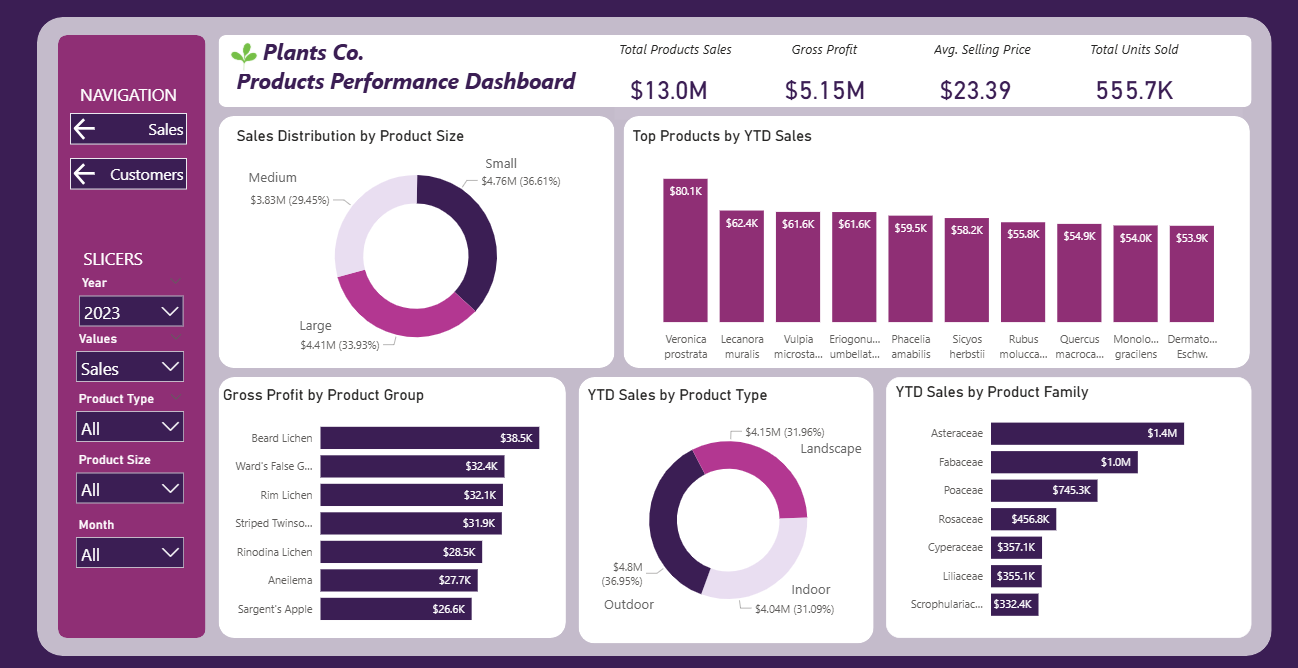

Layout of this report page (visuals, bound fields, positions):
{"tool":"powerbi","page":{"name":"Products Performance","canvas":[1454,750],"ordinal":2},"visuals":[{"type":"shape","box":[46,20,1372,710],"z":0},{"type":"shape","box":[70,40,164,670],"z":1000},{"type":"shape","box":[248,40,1148,80],"z":2000},{"type":"textbox","box":[264,36,398,82],"z":3000},{"type":"image","box":[218,40,116,48],"z":4000},{"type":"shape","box":[248,130,440,280],"z":5000},{"type":"shape","box":[248,420,386,290],"z":6000},{"type":"shape","box":[698,130,696,280],"z":7000},{"type":"shape","box":[648,420,328,296],"z":8000},{"type":"cardVisual","fields":{"Data":["_Measures.Sales","_Measures.Gross_Profit","_Measures.Avg Selling Price","_Measures.Quantity"]},"box":[688,60,698,74],"z":9000},{"type":"slicer","fields":{"Values":["Slc_Values.Values"]},"box":[80,364,140,90],"z":10000},{"type":"slicer","fields":{"Values":["Dim_Date.Year"]},"box":[84,302,136,90],"z":11000},{"type":"textbox","box":[688,40,172,48],"z":12000},{"type":"textbox","box":[880,40,104,48],"z":13000},{"type":"textbox","box":[1038,40,146,48],"z":14000},{"type":"textbox","box":[1212,40,150,48],"z":15000},{"type":"clusteredBarChart","title":"YTD Sales by Product Family","fields":{"Y":["_Measures.YTD_Sales"],"Category":["Dim_Products.Product_Family"]},"box":[990,420,406,290],"z":16000},{"type":"clusteredColumnChart","title":"Top Products by YTD Sales","fields":{"Category":["Dim_Products.Product_Name"],"Y":["_Measures.YTD_Sales"]},"box":[703.3,141.7,681.7,268.3],"z":17000},{"type":"donutChart","title":"YTD Sales by Product Type","fields":{"Category":["Dim_Products.Product_Type"],"Y":["_Measures.YTD_Sales"]},"box":[654,430,322,278],"z":18000},{"type":"donutChart","title":"Sales Distribution by Product Size","fields":{"Y":["_Measures.YTD_Sales"],"Category":["Dim_Products.Product_Size"]},"box":[264,142,408,268],"z":19000},{"type":"clusteredBarChart","title":"Gross Profit by Product Group","fields":{"Category":["Dim_Products.Product_Group"],"Y":["_Measures.Gross_Profit"]},"box":[248,430,400,278],"z":20000},{"type":"textbox","box":[890,484,94,50],"z":21000},{"type":"slicer","fields":{"Values":["Dim_Products.Product_Type"]},"box":[80,430,140,90],"z":22000},{"type":"slicer","fields":{"Values":["Dim_Products.Product_Size"]},"box":[80,498,140,90],"z":23000},{"type":"slicer","fields":{"Values":["Dim_Date.Month"]},"box":[80,570,140,90],"z":24000},{"type":"textbox","box":[672,656,74,36],"z":25000},{"type":"textbox","box":[880,640,86,34],"z":26000},{"type":"textbox","box":[276,182,92,34],"z":27000},{"type":"textbox","box":[540,166,88,50],"z":28000},{"type":"textbox","box":[334,346,90,46],"z":29000},{"type":"textbox","box":[84,88,130,40],"z":30000},{"type":"actionButton","box":[84,126,130,35],"z":31000},{"type":"actionButton","box":[84,176,130,35],"z":32000},{"type":"textbox","box":[94,270,130,40],"z":33000}]}

Visuals, with their boxes in screenshot pixels (x1, y1, x2, y2), scaled from the page's 1454x750 canvas onto the 1298x668 screenshot:
shape: (41,18,1266,650)
shape: (62,36,209,632)
shape: (221,36,1246,107)
textbox: (236,32,591,105)
image: (195,36,298,78)
shape: (221,116,614,365)
shape: (221,374,566,632)
shape: (623,116,1244,365)
shape: (578,374,871,638)
cardVisual - _Measures.Sales x _Measures.Gross_Profit: (614,53,1237,119)
slicer - Slc_Values.Values: (71,324,196,404)
slicer - Dim_Date.Year: (75,269,196,349)
textbox: (614,36,768,78)
textbox: (786,36,878,78)
textbox: (927,36,1057,78)
textbox: (1082,36,1216,78)
"YTD Sales by Product Family" clusteredBarChart: (884,374,1246,632)
"Top Products by YTD Sales" clusteredColumnChart: (628,126,1236,365)
"YTD Sales by Product Type" donutChart: (584,383,871,631)
"Sales Distribution by Product Size" donutChart: (236,126,600,365)
"Gross Profit by Product Group" clusteredBarChart: (221,383,578,631)
textbox: (795,431,878,476)
slicer - Dim_Products.Product_Type: (71,383,196,463)
slicer - Dim_Products.Product_Size: (71,444,196,524)
slicer - Dim_Date.Month: (71,508,196,588)
textbox: (600,584,666,616)
textbox: (786,570,862,600)
textbox: (246,162,329,192)
textbox: (482,148,561,192)
textbox: (298,308,379,349)
textbox: (75,78,191,114)
actionButton: (75,112,191,143)
actionButton: (75,157,191,188)
textbox: (84,240,200,276)
